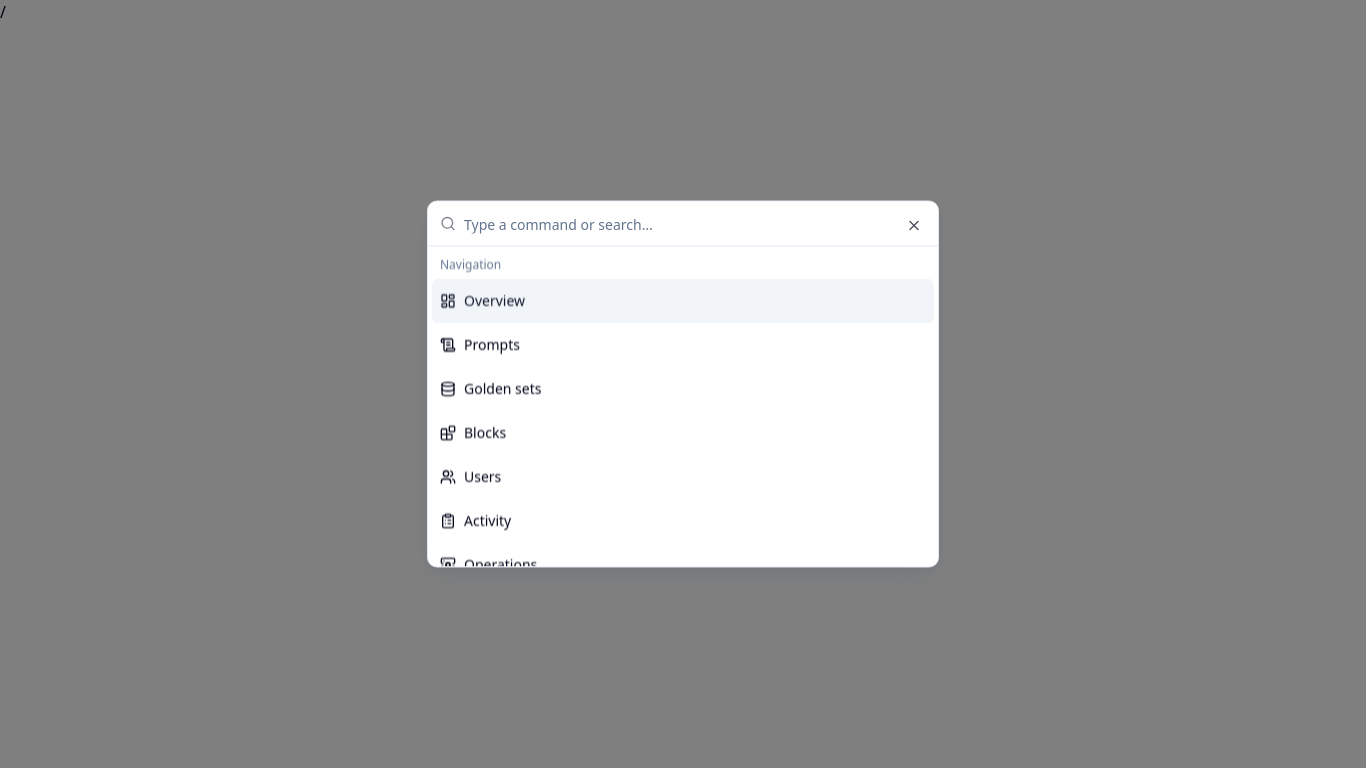
Test: CommandPalette › filters items by the typed query
The image size is (1366, 768).
Type "greet" into the dropdown with placeholder "Type a command or search…".
click(695, 224); type("greet")  # box [464,202,926,246]
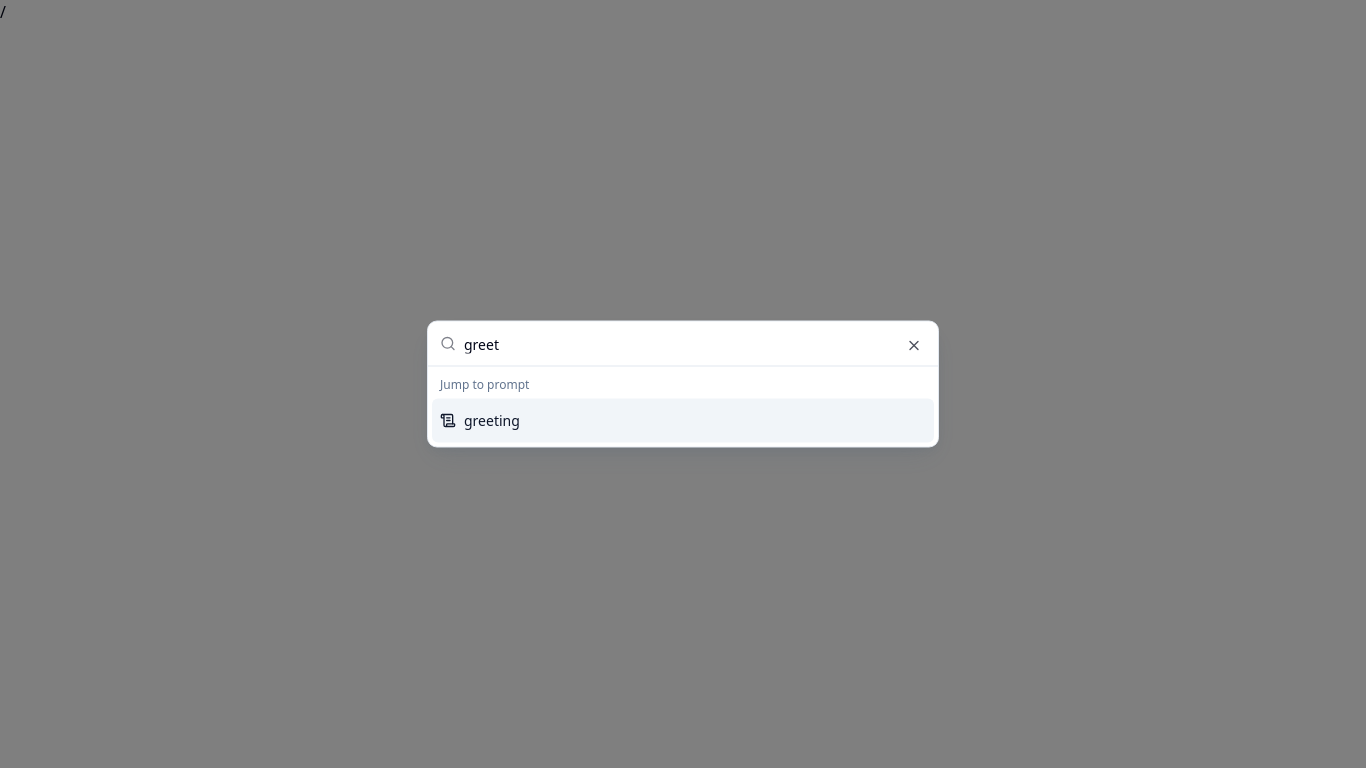
Expected: the option "greeting" is shown, [432,398,934,442]
Expected: the option "Overview" is gone
